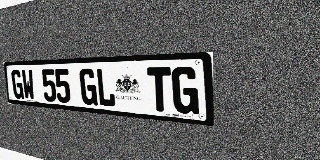5: (54, 69, 71, 103), (41, 69, 57, 102)
G: (171, 66, 199, 115), (79, 68, 98, 106), (11, 70, 24, 99)
L: (96, 68, 116, 107)
T: (147, 67, 172, 112)
W: (21, 69, 35, 100)
